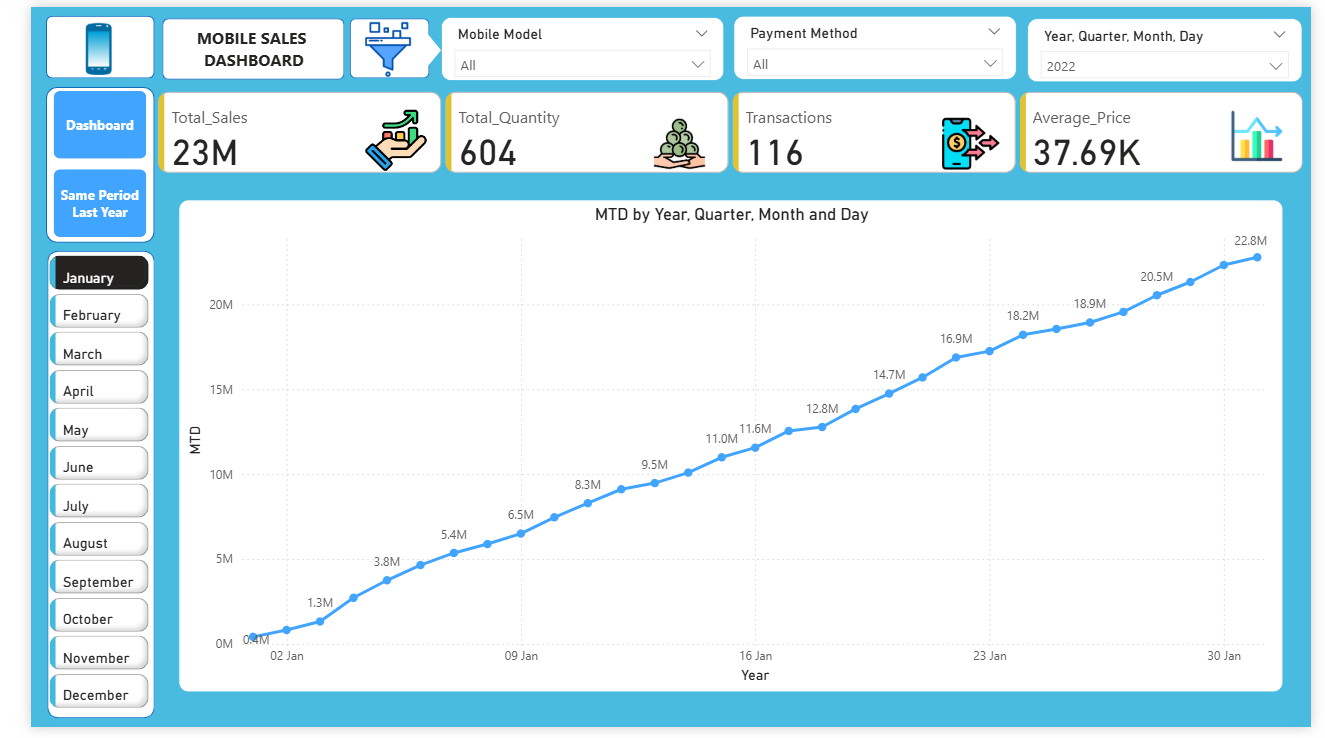

The dashboard page shown, as its layout file describes it:
{"tool":"powerbi","page":{"name":"MTD Report","canvas":[1280,720],"ordinal":1},"visuals":[{"type":"shape","box":[16.2,243.8,107.5,467.5],"z":0},{"type":"shape","box":[14.5,8.4,108.6,62.7],"z":1000},{"type":"image","box":[20.5,8.4,95.3,63.9],"z":2000},{"type":"shape","box":[14.5,79.6,108.6,155.6],"z":3000},{"type":"cardVisual","fields":{"Data":["Mobile_Sales_Data.Total_Sales","Mobile_Sales_Data.Total_Quantity","Mobile_Sales_Data.Transactions","Mobile_Sales_Data.Average_Price"]},"box":[123.1,79.6,1157,91.7],"z":4000},{"type":"slicer","fields":{"Values":["Mobile_Sales_Data.Mobile Model"]},"box":[410.2,9.7,283.5,63.9],"z":5000},{"type":"slicer","fields":{"Values":["Mobile_Sales_Data.Payment Method"]},"box":[702.1,8.4,283.5,63.9],"z":6000},{"type":"slicer","fields":{"Values":["Custom_Calendar.Date.Variation.Date Hierarchy.Year","Custom_Calendar.Date.Variation.Date Hierarchy.Quarter","Custom_Calendar.Date.Variation.Date Hierarchy.Month","Custom_Calendar.Date.Variation.Date Hierarchy.Day"]},"box":[996.5,10.9,275.1,63.9],"z":7000},{"type":"shape","box":[318.5,10.9,79.6,60.3],"z":8000},{"type":"image","box":[313.7,0,89.3,79.6],"z":9000},{"type":"shape","box":[382.4,26.5,27.7,33.8],"z":10000},{"type":"shape","box":[131.5,10.9,182.2,61.5],"z":11000},{"type":"textbox","box":[147.2,14.5,150.8,55.5],"z":12000},{"type":"lineChart","fields":{"Category":["Custom_Calendar.Date.Variation.Date Hierarchy.Year","Custom_Calendar.Date.Variation.Date Hierarchy.Quarter","Custom_Calendar.Date.Variation.Date Hierarchy.Month","Custom_Calendar.Date.Variation.Date Hierarchy.Day"],"Y":["Mobile_Sales_Data.MTD"]},"box":[147.5,192.5,1105,492.5],"z":13000},{"type":"advancedSlicerVisual","fields":{"Values":["Custom_Calendar.Date.Variation.Date Hierarchy.Month"]},"box":[13.3,243.7,109.8,466.9],"z":14000},{"type":"pageNavigator","box":[22.5,83.8,93.8,147.5],"z":15000}]}

Visuals, with their boxes in screenshot pixels (x1, y1, x2, y2), scaled from the page's 1280x720 canvas onto the 1325x738 screenshot:
shape: locate(17, 250, 128, 729)
shape: locate(15, 9, 127, 73)
image: locate(21, 9, 120, 74)
shape: locate(15, 82, 127, 241)
cardVisual - Mobile_Sales_Data.Total_Sales x Mobile_Sales_Data.Total_Quantity: locate(127, 82, 1324, 176)
slicer - Mobile_Sales_Data.Mobile Model: locate(425, 10, 718, 75)
slicer - Mobile_Sales_Data.Payment Method: locate(727, 9, 1020, 74)
slicer - Custom_Calendar.Date.Variation.Date Hierarchy.Year x Custom_Calendar.Date.Variation.Date Hierarchy.Quarter: locate(1032, 11, 1316, 77)
shape: locate(330, 11, 412, 73)
image: locate(325, 0, 417, 82)
shape: locate(396, 27, 425, 62)
shape: locate(136, 11, 325, 74)
textbox: locate(152, 15, 308, 72)
lineChart - Custom_Calendar.Date.Variation.Date Hierarchy.Year x Custom_Calendar.Date.Variation.Date Hierarchy.Quarter: locate(153, 197, 1297, 702)
advancedSlicerVisual - Custom_Calendar.Date.Variation.Date Hierarchy.Month: locate(14, 250, 127, 728)
pageNavigator: locate(23, 86, 120, 237)
